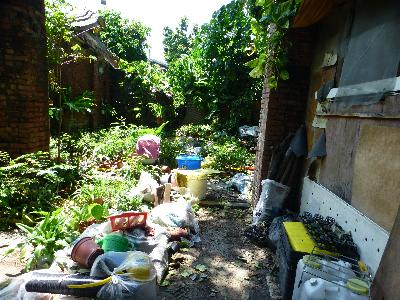bowl: (69, 236, 105, 267)
bucket: (185, 173, 208, 199), (176, 155, 202, 169)
plastic_bag: (90, 249, 157, 300)
